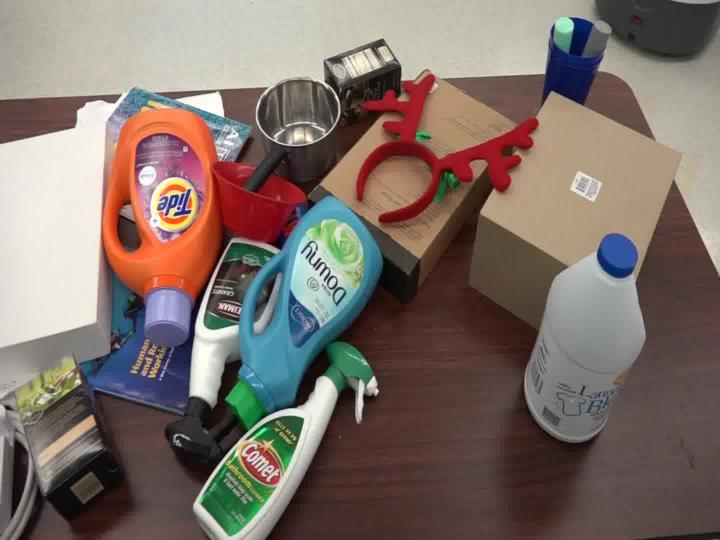downy: (207, 183, 388, 427)
